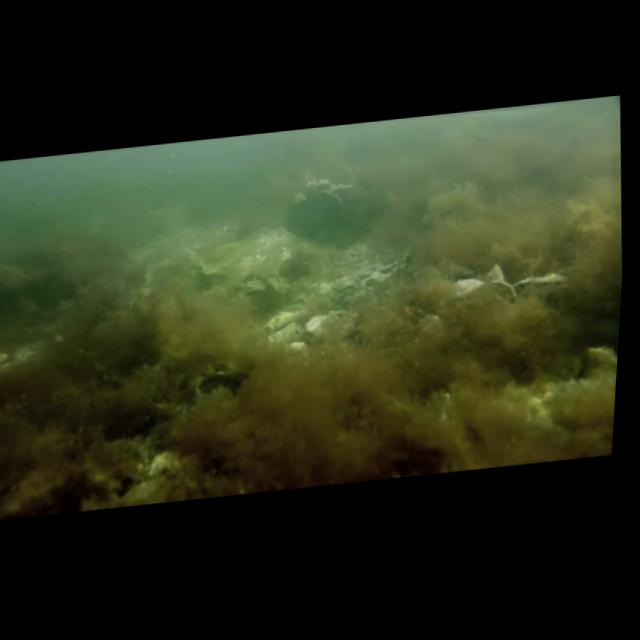Oyster-Closed: (513, 270, 570, 288)
Oyster-Indeterminate: (466, 279, 519, 300), (451, 277, 482, 300), (316, 190, 344, 209), (331, 181, 356, 191)
